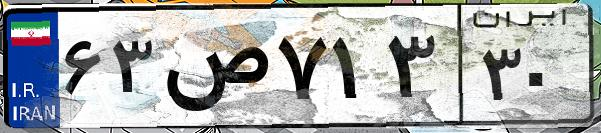0: (525, 38, 570, 115)
1: (330, 28, 385, 110)
3: (385, 28, 445, 110), (475, 38, 525, 113), (110, 28, 158, 98)
6: (57, 26, 110, 100)
7: (270, 28, 330, 110)
ص: (158, 20, 270, 120)
